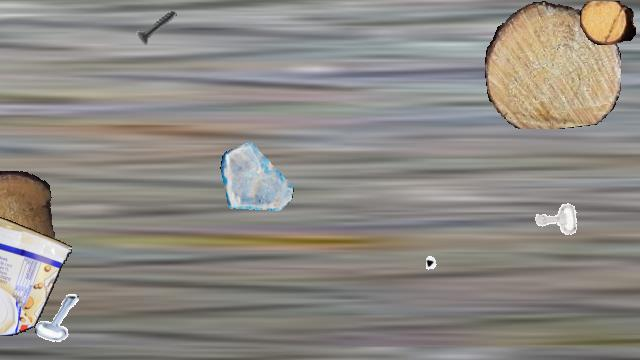glass: (220, 139, 294, 213)
metal: (426, 238, 488, 300), (131, 1, 183, 53), (529, 193, 581, 245), (34, 293, 86, 345)
plastic: (0, 211, 72, 335)
wood: (485, 1, 621, 129), (0, 171, 54, 275), (580, 1, 636, 45)
